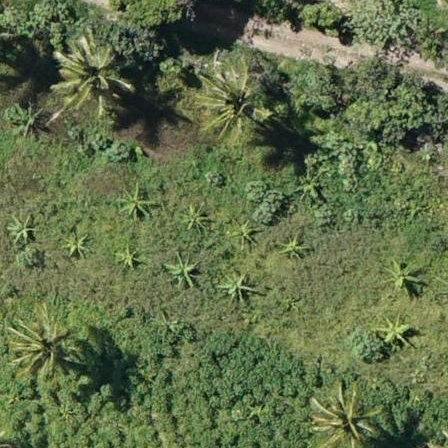palm_tree: (53, 43, 122, 113), (9, 309, 77, 379), (197, 67, 262, 138), (309, 387, 381, 448), (51, 438, 97, 448)
